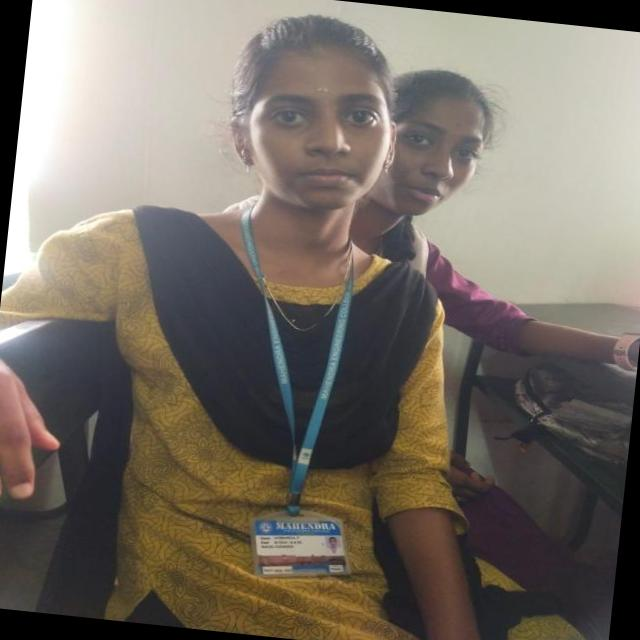id_card: (212, 201, 388, 582)
